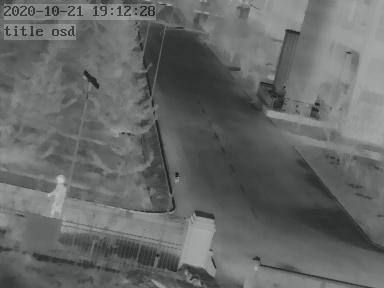person: (44, 174, 69, 217)
